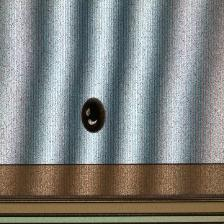PARTICLE: (74, 96, 114, 136)
